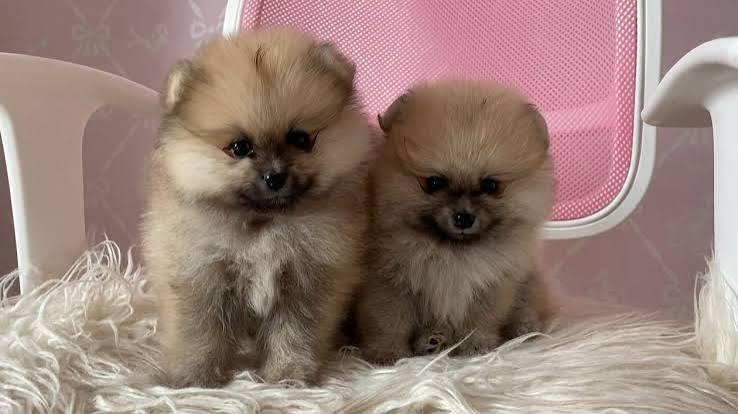puppy-dog: (140, 23, 381, 389), (353, 74, 568, 364)
